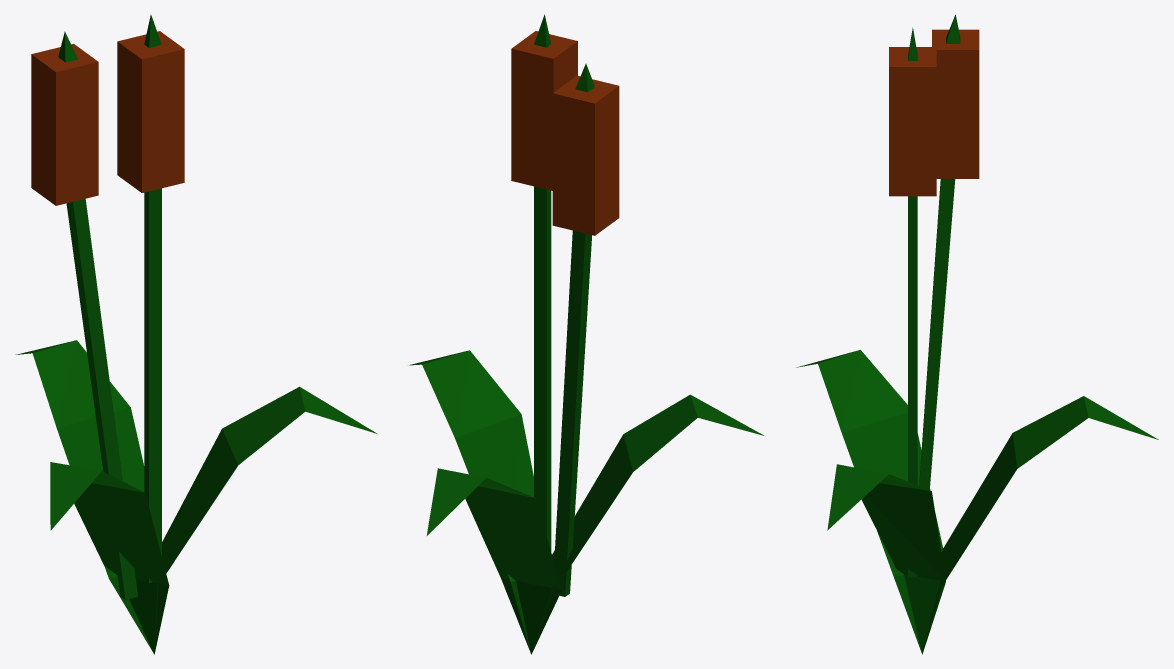
Rendered from bullrushes.obj.
The picture shows the model from 3 angles, left to right: view 1: azimuth 30°, elevation 25°; view 2: azimuth 150°, elevation 25°; view 3: azimuth 270°, elevation 25°; orthographic projection. The views are drawn at different scales.
Visible parts, largest first — view 1: bullrushes_back; view 2: bullrushes_back; view 3: bullrushes_back.
Boxes of the visible parts, x1,y1,x2,y2 form: bullrushes_back: [15, 15, 377, 654]; bullrushes_back: [409, 14, 764, 654]; bullrushes_back: [796, 14, 1158, 654].
Bounding box in the file's own units: 0.81 × 1.45 × 0.77.
